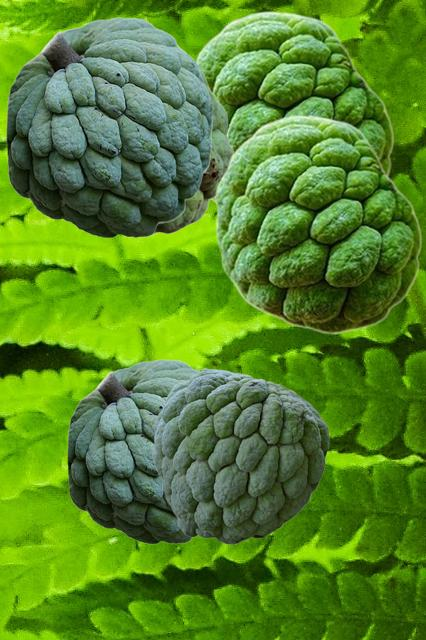atis: (6, 17, 212, 237), (215, 114, 421, 333), (194, 10, 393, 205), (152, 368, 328, 543), (67, 359, 199, 543), (153, 70, 233, 236)
